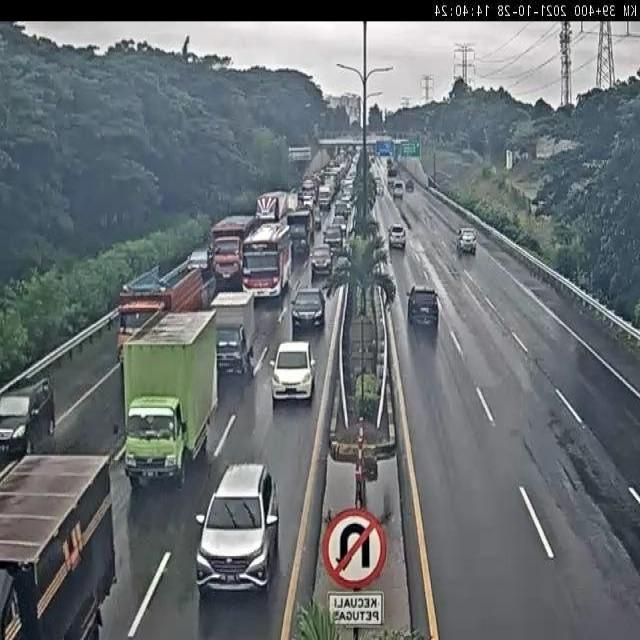Car: (186, 431, 290, 608), (0, 378, 55, 464), (270, 340, 316, 405), (406, 285, 439, 335), (310, 243, 333, 280), (456, 228, 477, 255)
Truck: (0, 452, 115, 640), (122, 311, 218, 487), (118, 258, 213, 362), (324, 446, 394, 535), (210, 292, 259, 382), (114, 311, 168, 392), (241, 220, 293, 302), (210, 216, 255, 294), (0, 561, 42, 640), (332, 272, 355, 389), (290, 287, 326, 333), (286, 207, 314, 261), (119, 286, 173, 314), (122, 266, 166, 295), (324, 153, 351, 190), (117, 307, 151, 335), (117, 334, 128, 413), (372, 268, 396, 304), (197, 267, 217, 308), (160, 262, 189, 288), (449, 146, 483, 166), (116, 330, 135, 363), (320, 173, 338, 207), (332, 254, 352, 283), (324, 225, 345, 252), (188, 248, 210, 272), (360, 454, 378, 482), (536, 138, 556, 160), (388, 225, 406, 249), (334, 200, 351, 225), (372, 260, 388, 286), (335, 243, 353, 266), (299, 188, 316, 212), (286, 191, 300, 218), (508, 149, 529, 167), (410, 284, 436, 298), (339, 190, 353, 214), (346, 210, 357, 240), (376, 139, 394, 157), (531, 193, 547, 212), (393, 139, 409, 158), (406, 284, 416, 314), (399, 207, 412, 230), (297, 160, 311, 180), (317, 138, 344, 148), (392, 180, 406, 199), (304, 174, 320, 190), (582, 159, 603, 170), (342, 146, 356, 162), (437, 170, 454, 183), (365, 141, 378, 157), (376, 151, 389, 167), (313, 209, 322, 231), (328, 159, 340, 175), (109, 308, 120, 325), (297, 188, 307, 206), (387, 160, 397, 177), (366, 192, 374, 213), (366, 134, 380, 146), (418, 177, 430, 191), (428, 175, 439, 189), (456, 227, 466, 242), (318, 284, 327, 300), (456, 239, 464, 256), (119, 316, 127, 333), (464, 229, 475, 241), (291, 187, 300, 201), (375, 180, 383, 195), (506, 150, 512, 170), (405, 179, 414, 192), (42, 380, 49, 395), (106, 314, 112, 331), (392, 138, 404, 146), (453, 234, 459, 249), (388, 176, 394, 189), (370, 154, 376, 165), (122, 285, 130, 293), (380, 131, 388, 138), (406, 288, 412, 296)
